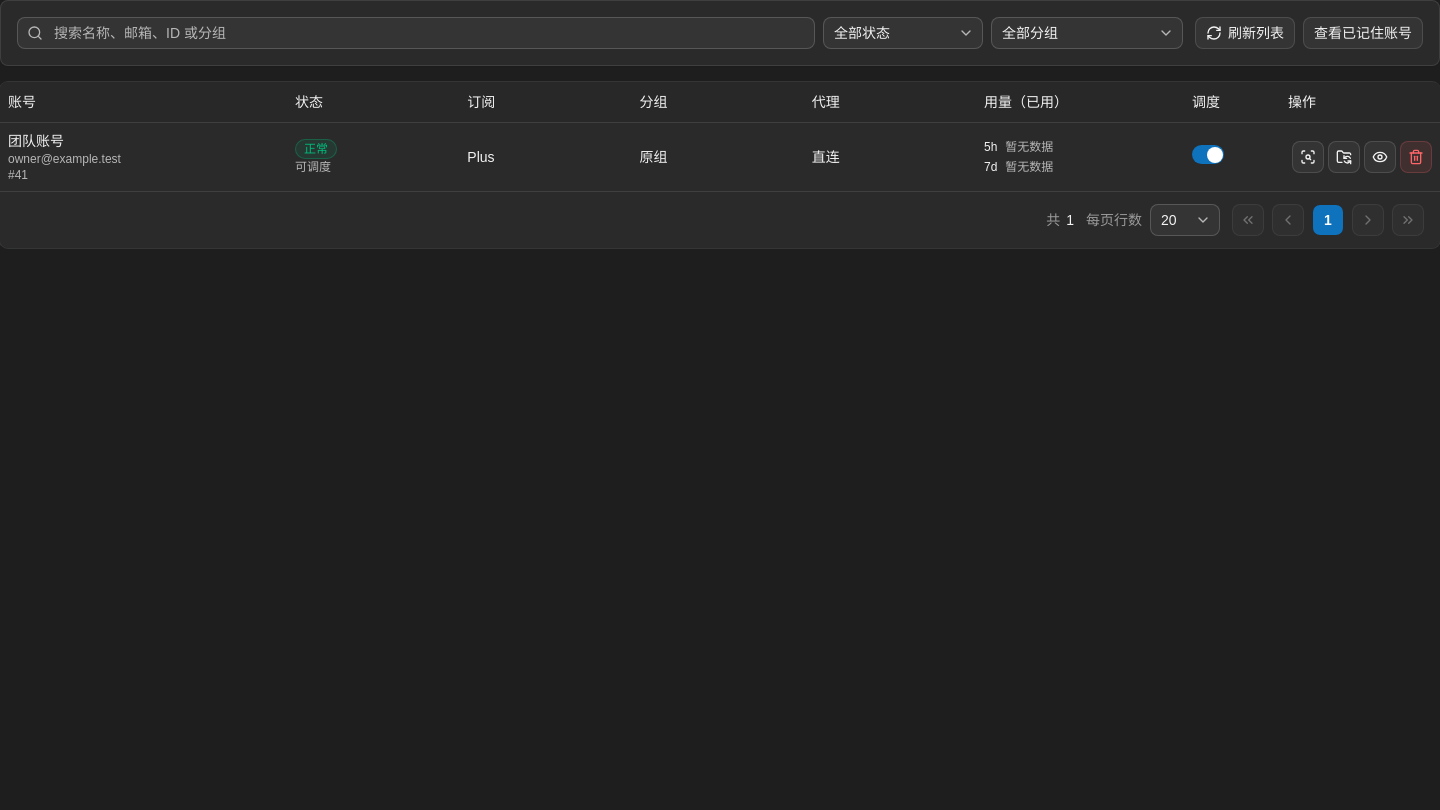
Test: 清空目标分组后禁止确认，键盘可以重新打开选项
Click the button named "移动 团队账号 分组": point(1344, 156) [1328,140,1360,172]
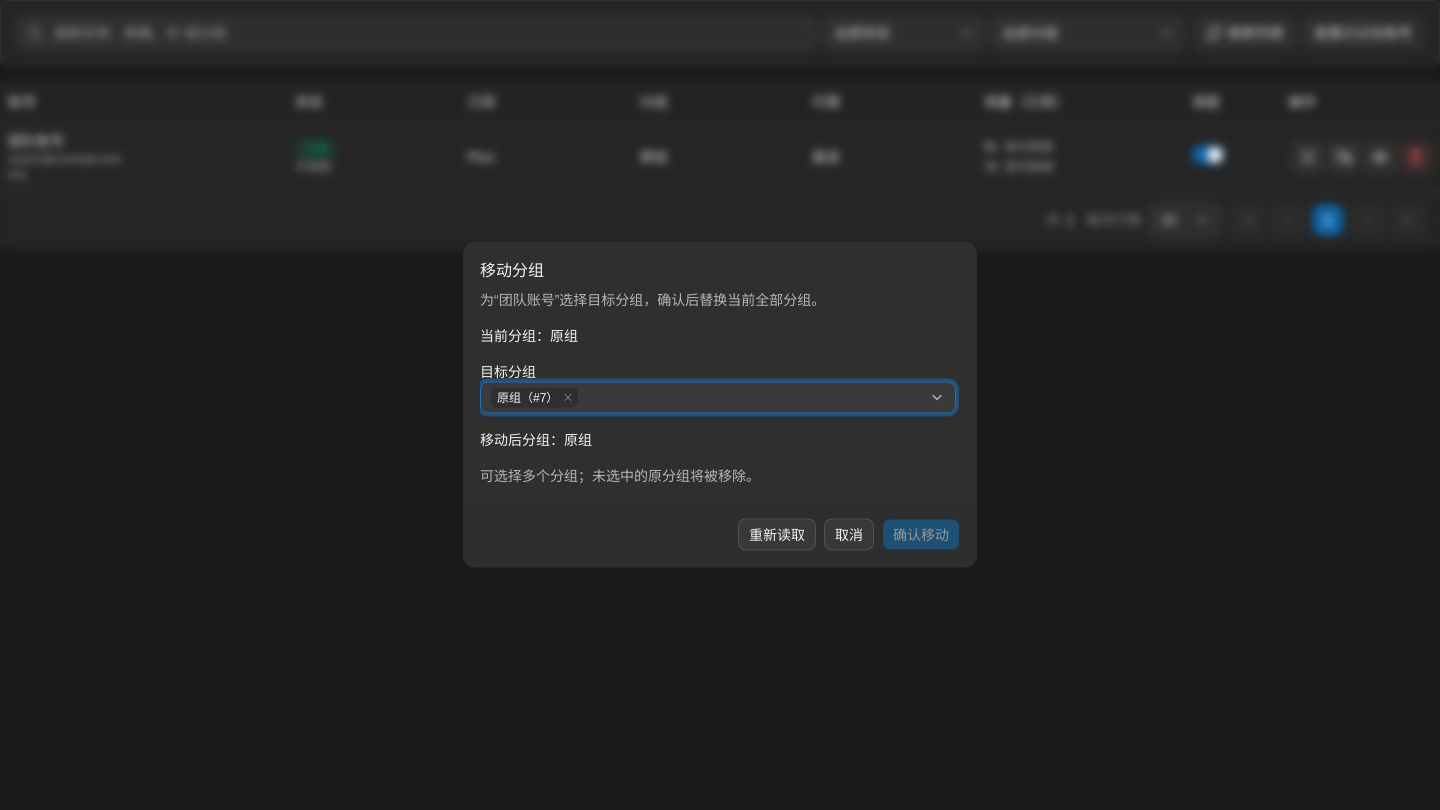
Check: the button "确认移动" is shown, box [882,518,960,550]
Press Enter
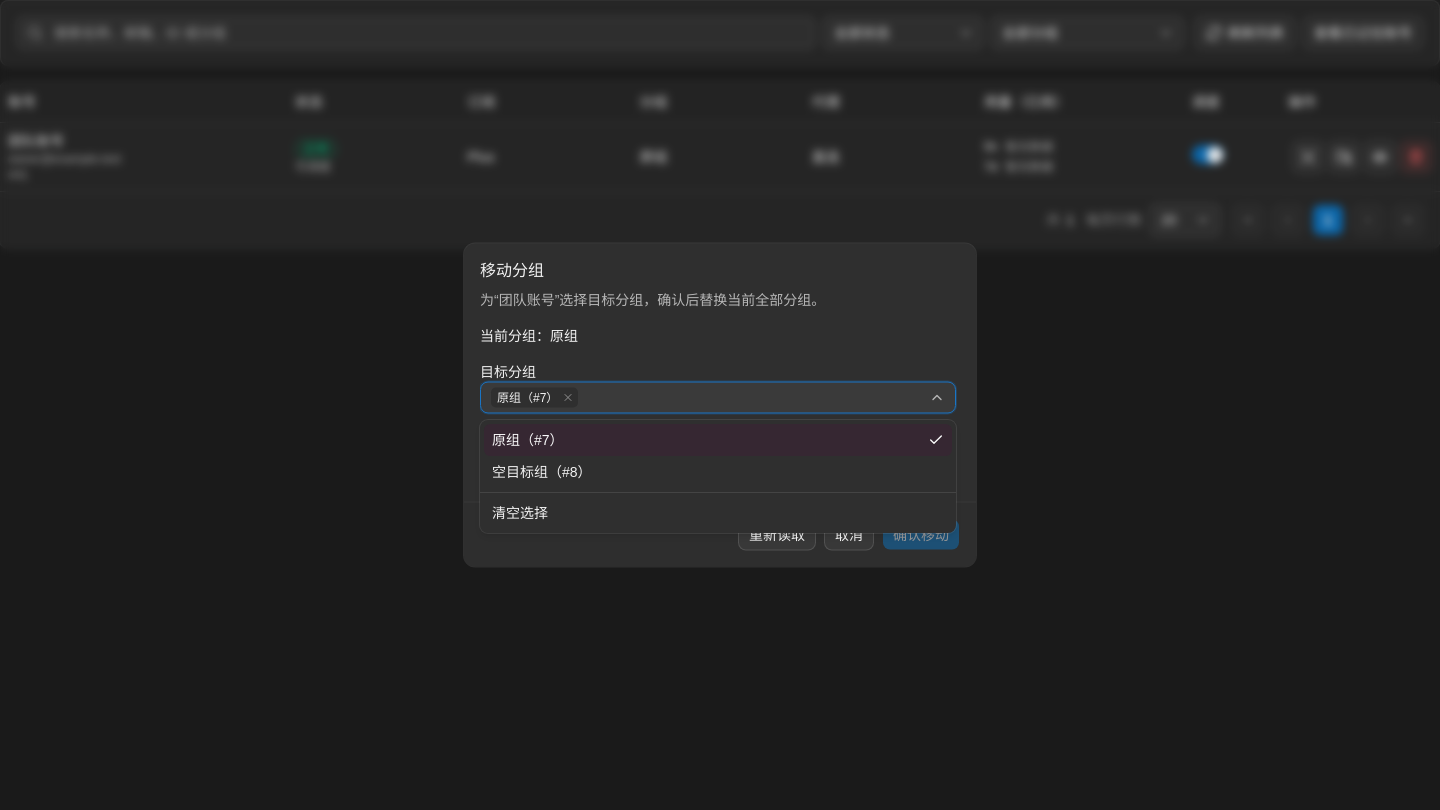
Click the button "清空选择": point(520, 513) [484,497,952,529]
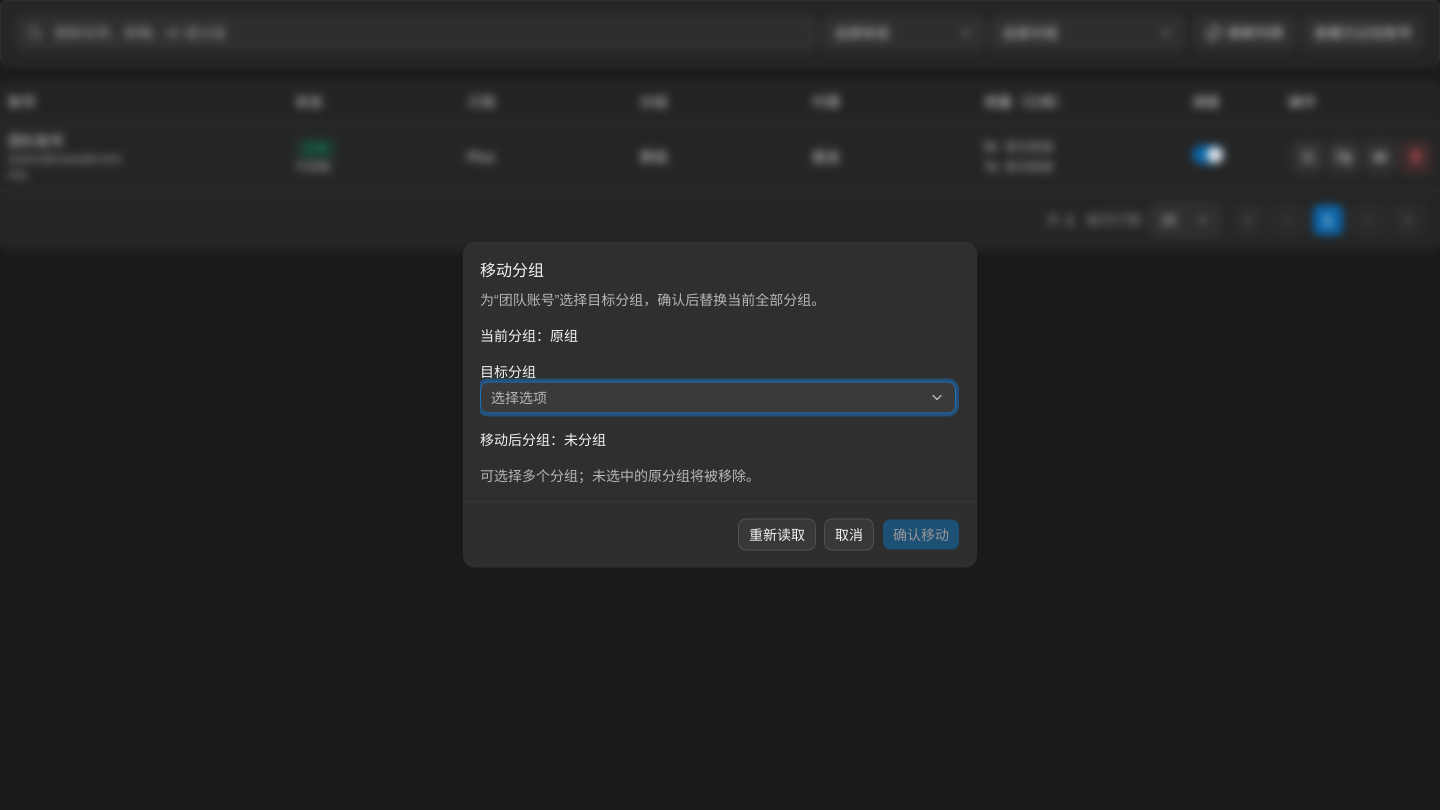
Check: the button "确认移动" is disabled, box [882,518,960,550]
Check: the text "移动后分组：未分组" is shown, box [480,432,606,448]
